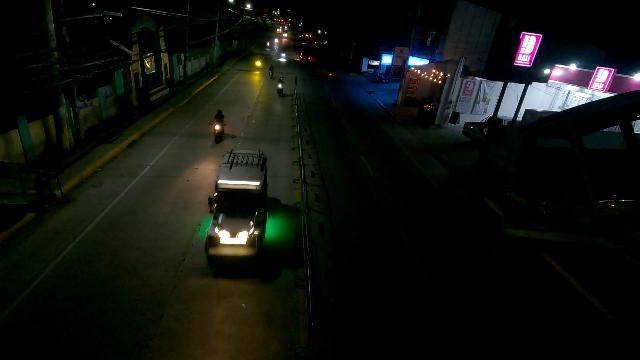car: (299, 51, 312, 63)
jeepney: (205, 149, 268, 266)
motorcycle: (213, 109, 225, 143), (277, 76, 284, 96), (268, 65, 275, 80)
